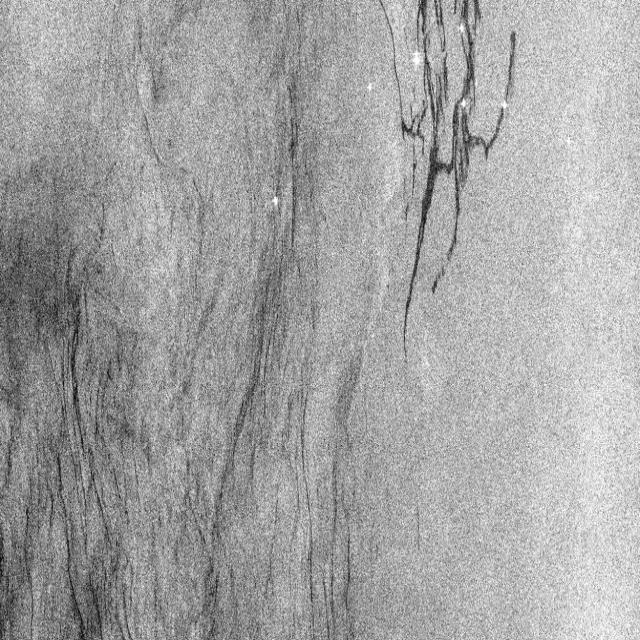look-alike: (2, 160, 157, 636), (203, 252, 365, 636)
oil-spill: (377, 1, 522, 362)
ship: (448, 10, 471, 46), (493, 83, 512, 120), (405, 40, 424, 76), (454, 89, 472, 120), (264, 186, 282, 214), (559, 124, 574, 154), (364, 72, 376, 103)
